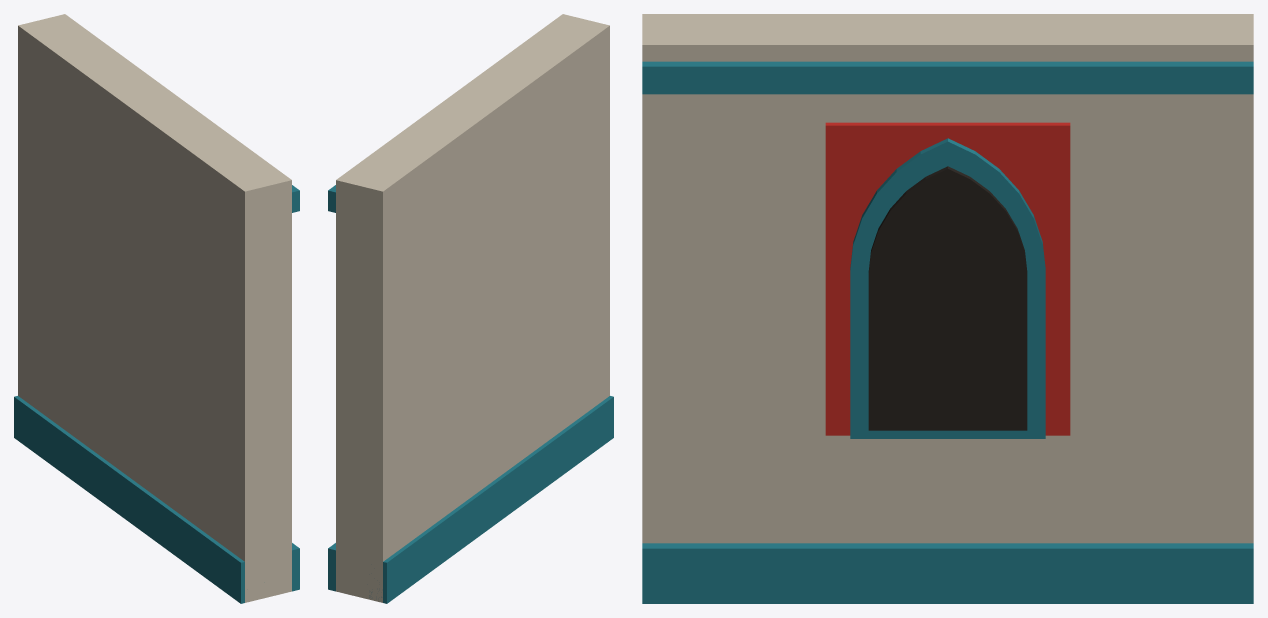
File: wall-tile-arch.glb
3 renders of one model, left to right at view 1: azimuth 30°, elevation 25°; view 2: azimuth 150°, elevation 25°; view 3: azimuth 270°, elevation 25°, orthographic. The views are drawn at different scales.
Visible parts, largest first — view 1: wall-tile-arch; view 2: wall-tile-arch; view 3: wall-tile-arch.
Part boxes in pixels (box(x1,y1,x2,y2)): wall-tile-arch: box(14, 14, 299, 603); wall-tile-arch: box(328, 14, 613, 603); wall-tile-arch: box(642, 14, 1253, 603).
Size of the model in its own units: 0.165 by 1 by 1.
